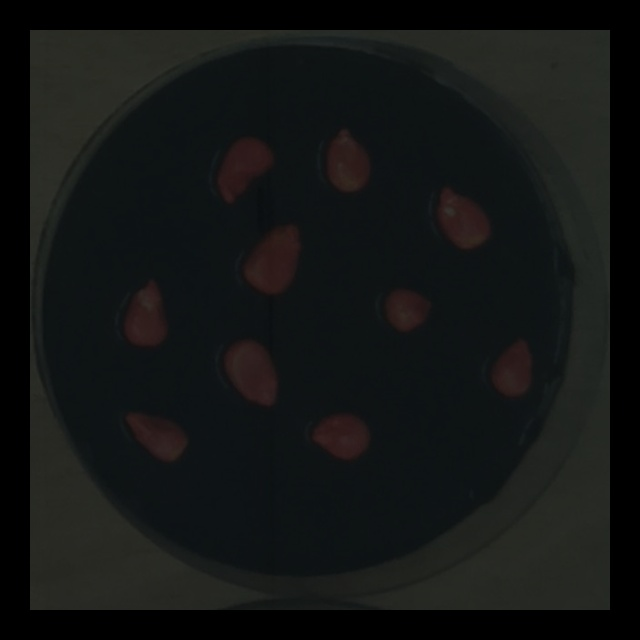Zea mays: (234, 216, 306, 302), (209, 129, 281, 212), (427, 179, 497, 255), (217, 333, 283, 413), (117, 405, 195, 467), (116, 271, 174, 351), (320, 122, 378, 200), (302, 406, 377, 466), (484, 331, 538, 403), (378, 281, 439, 339)
